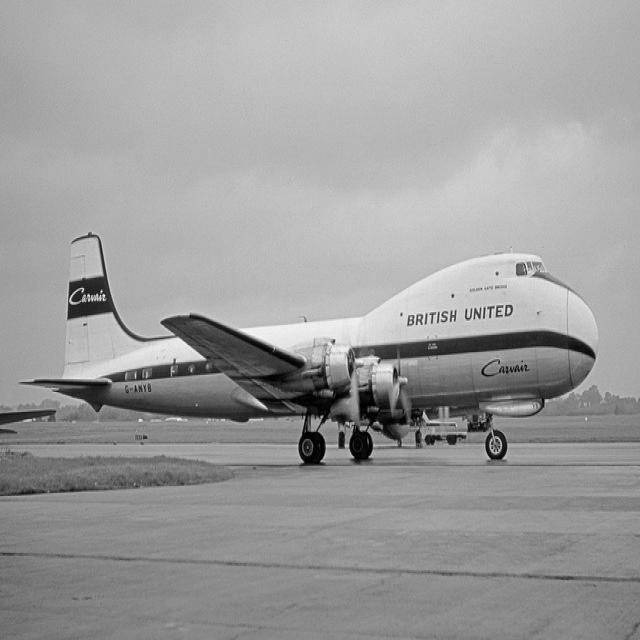truck: (419, 416, 466, 444)
